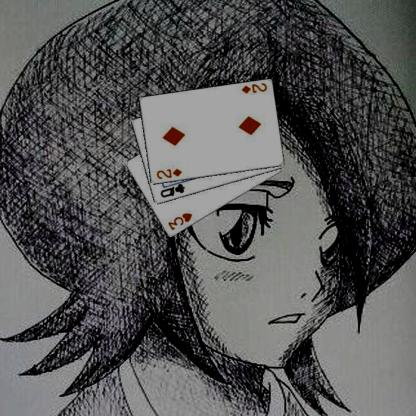2D: (239, 80, 268, 95), (154, 166, 182, 181)
3H: (165, 210, 193, 232)
QC: (158, 181, 186, 199)
